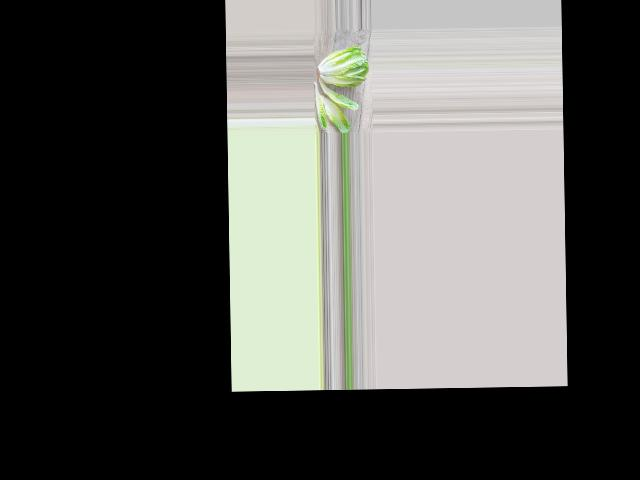lettuce: (318, 44, 368, 89)
